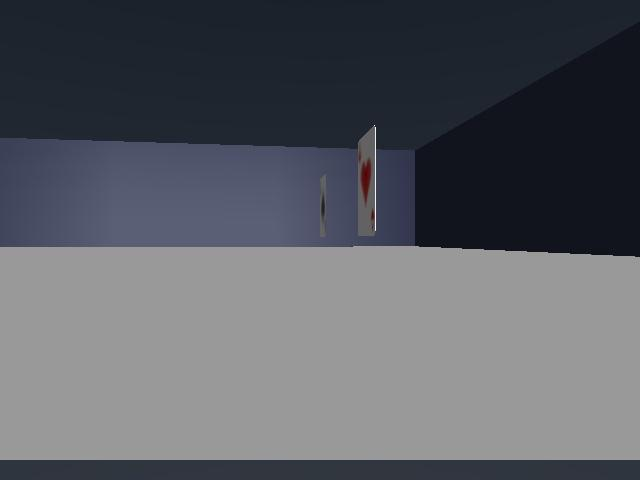club: (320, 175, 325, 236)
heart: (358, 126, 375, 235)
